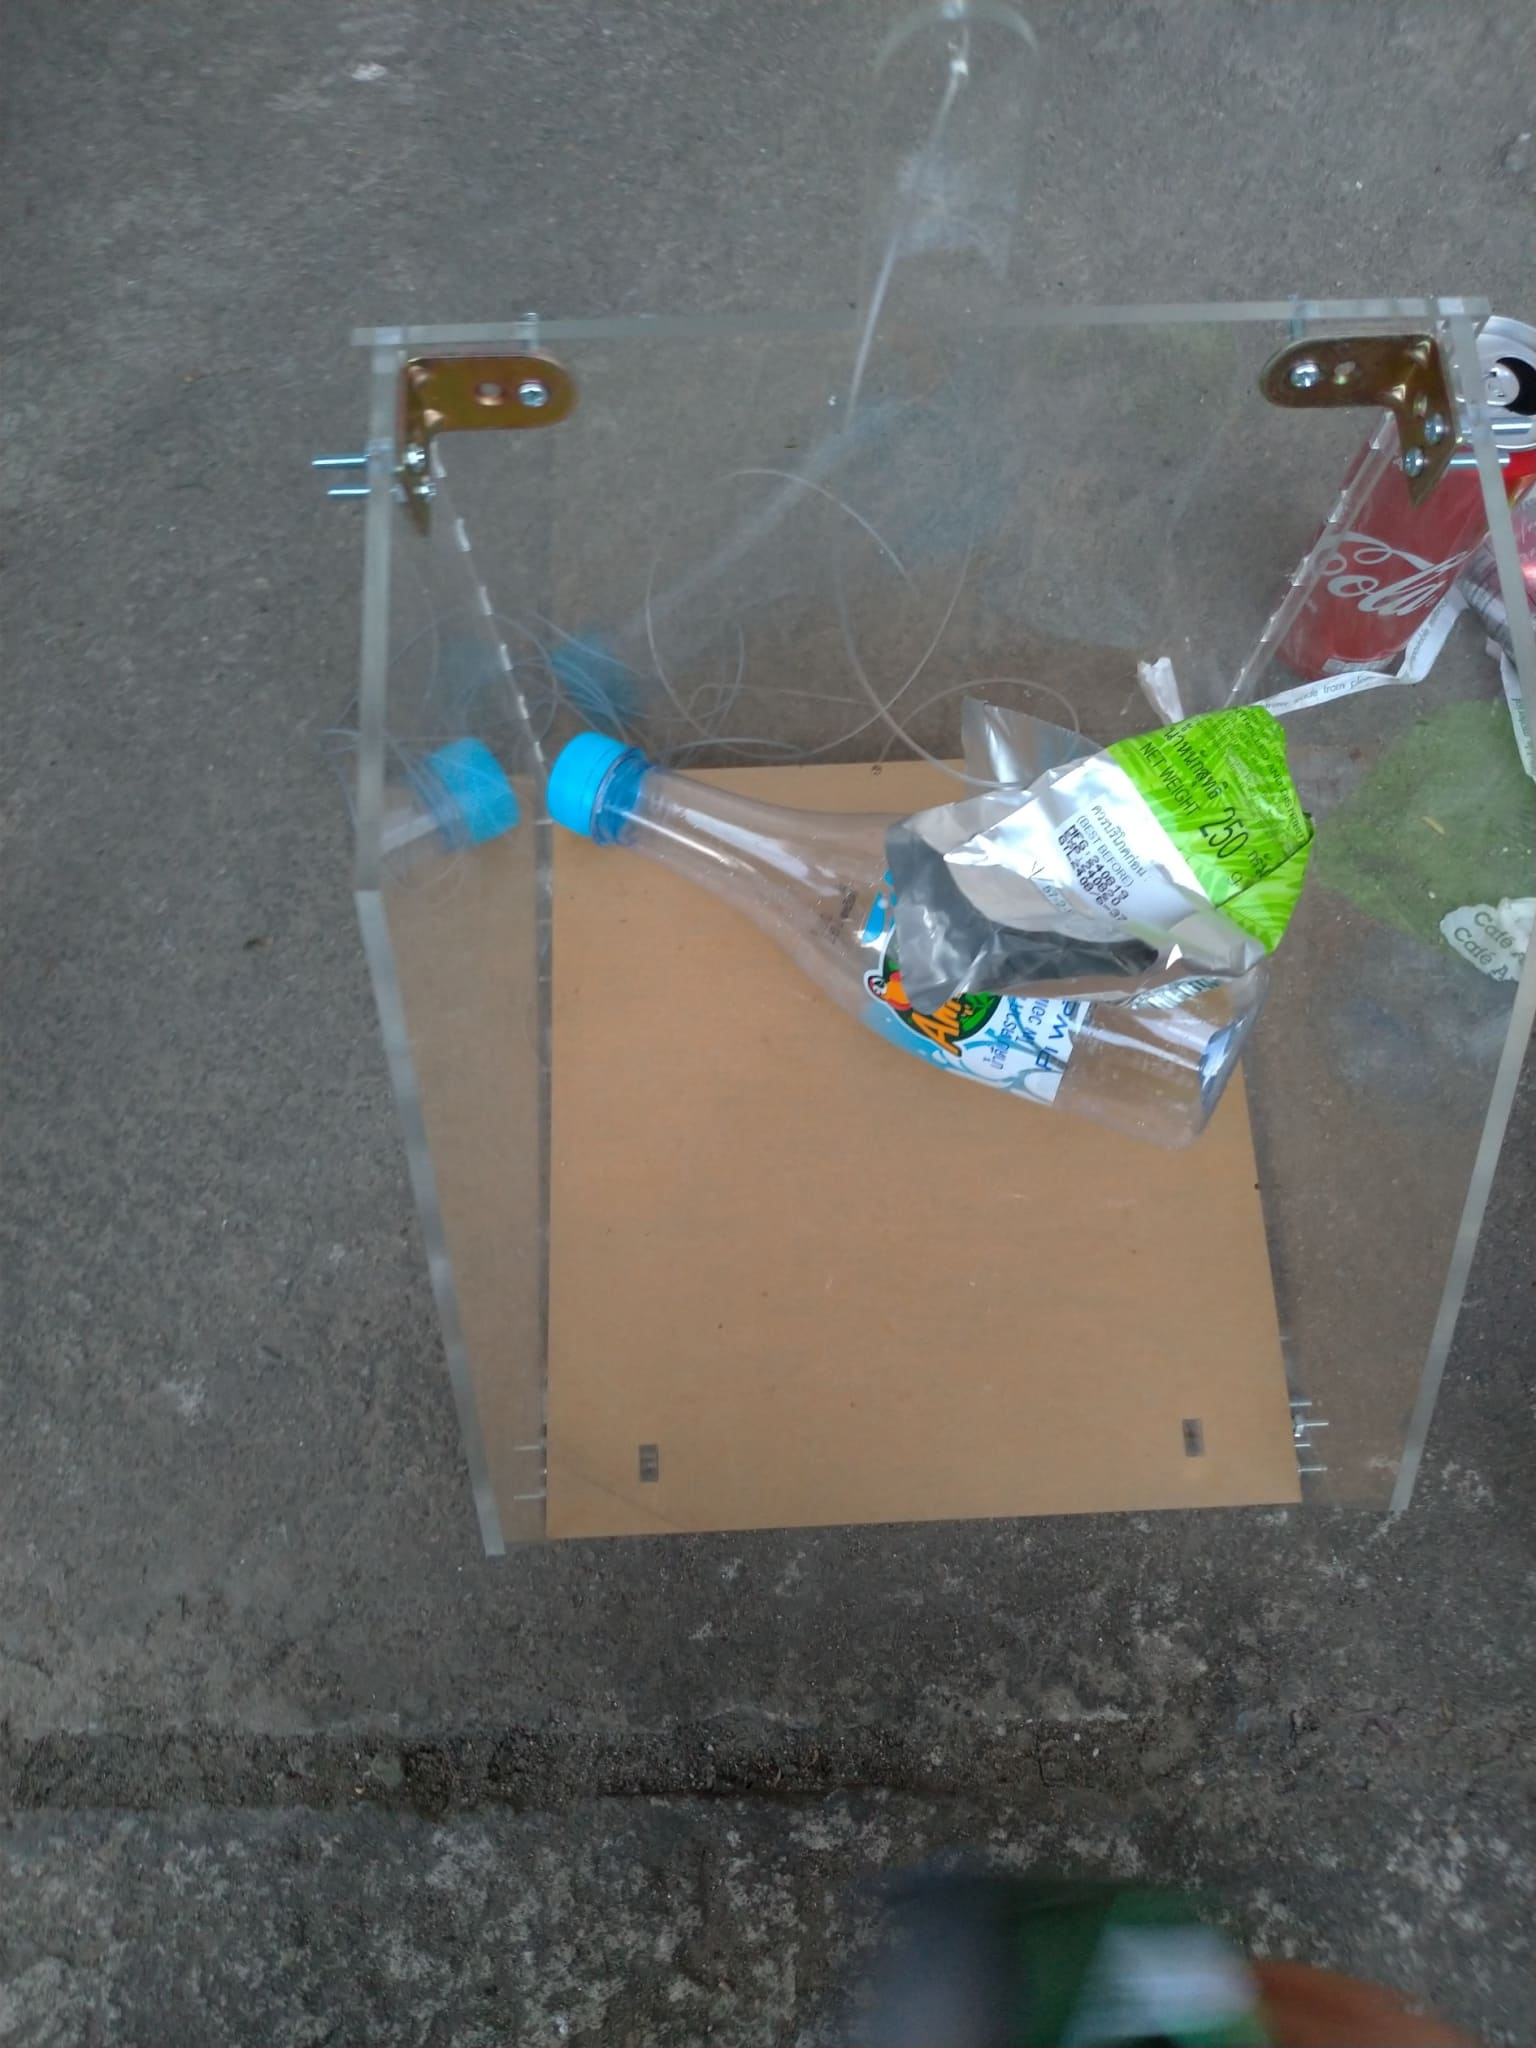AlCan: (1275, 319, 1536, 695)
Others: (886, 692, 1300, 977)
PlasticBottle: (537, 735, 1238, 1145)
